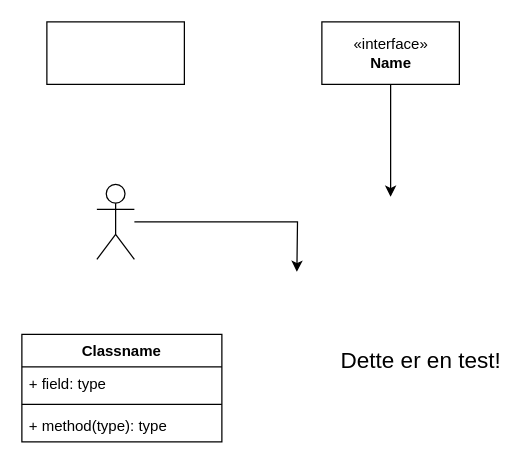
Some shapes in this 530 by 468 pixel diagram are drawn without their labels. The shapes that lost their labels are listed below. From the top down, each one's centre as x and y in pixels, then its label:
At (115,52): "Object".
At (115,221): "Actor".
